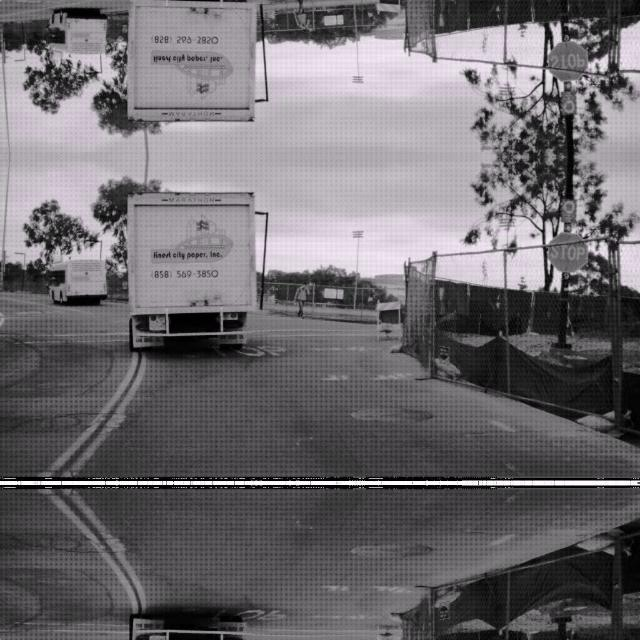stop: (546, 230, 588, 272), (546, 40, 588, 81)
